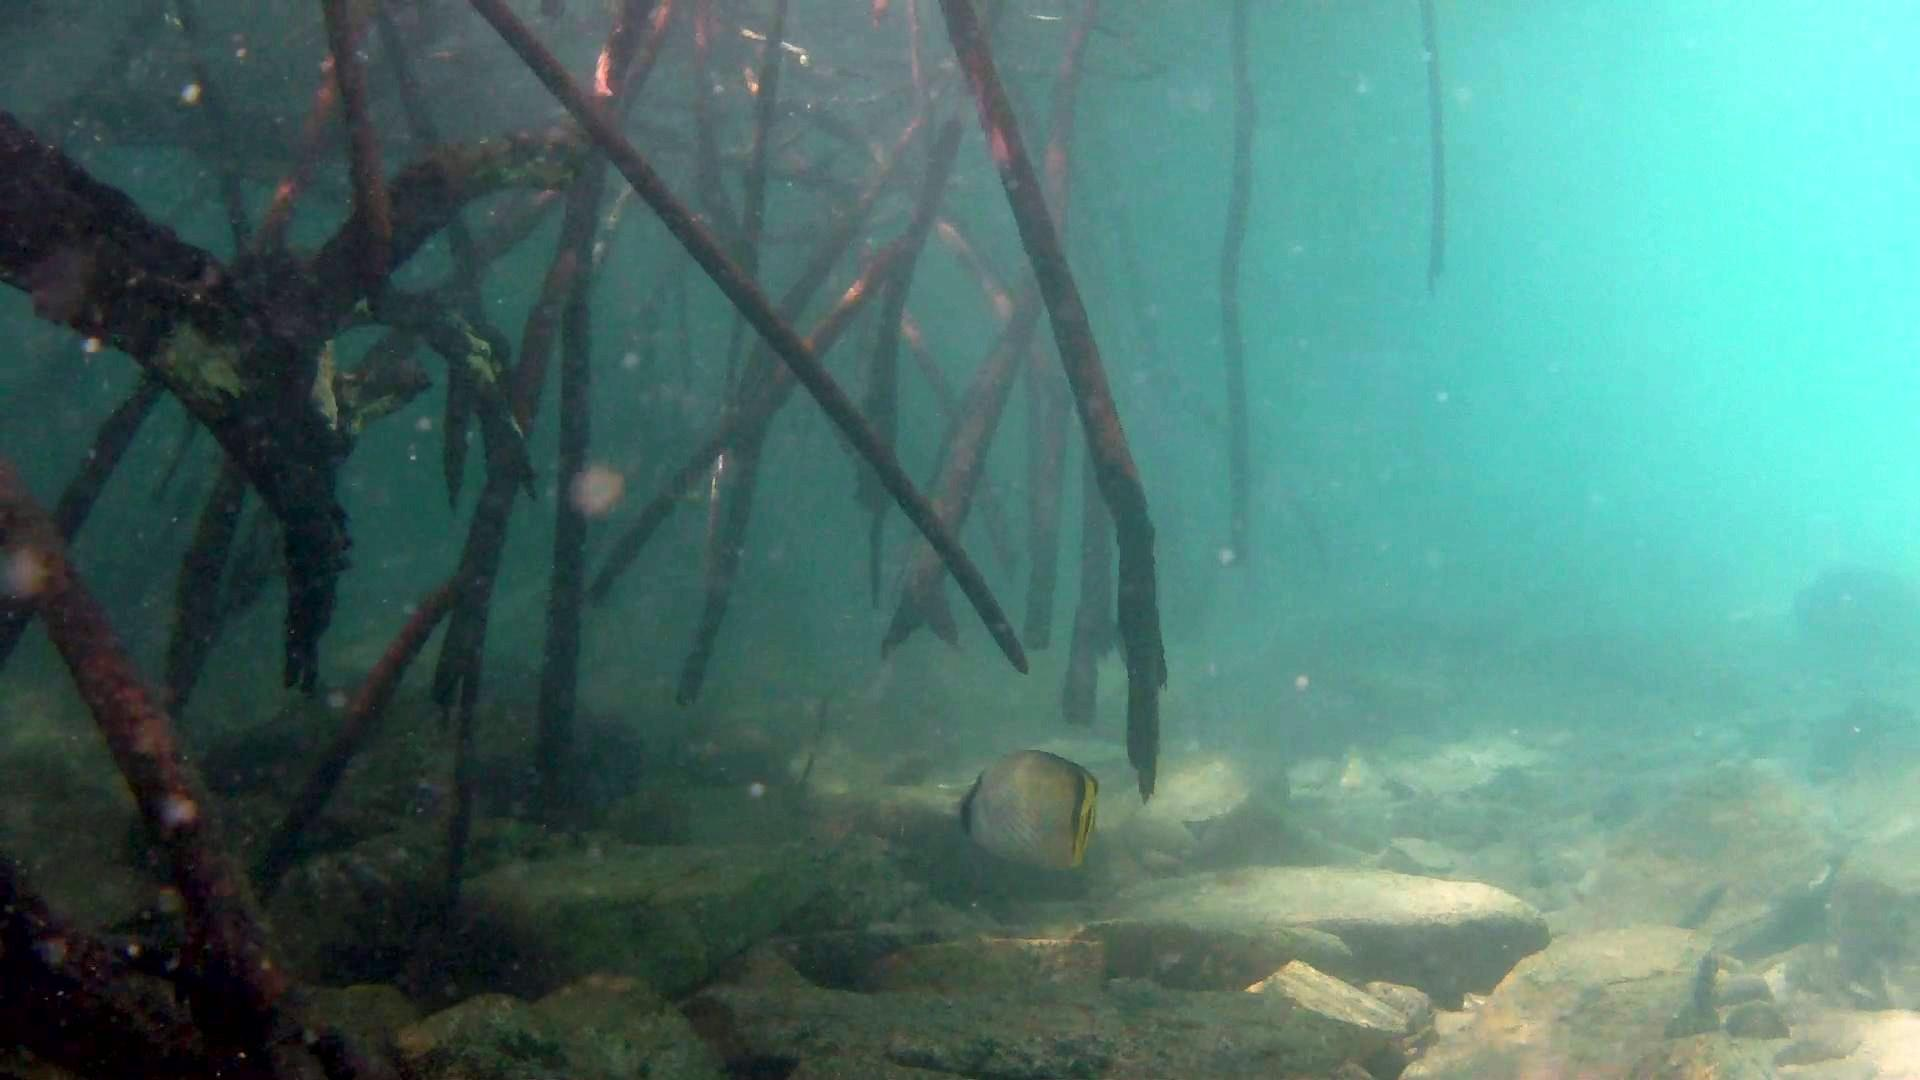chaetodon vagabundus: (946, 747, 1103, 874)
